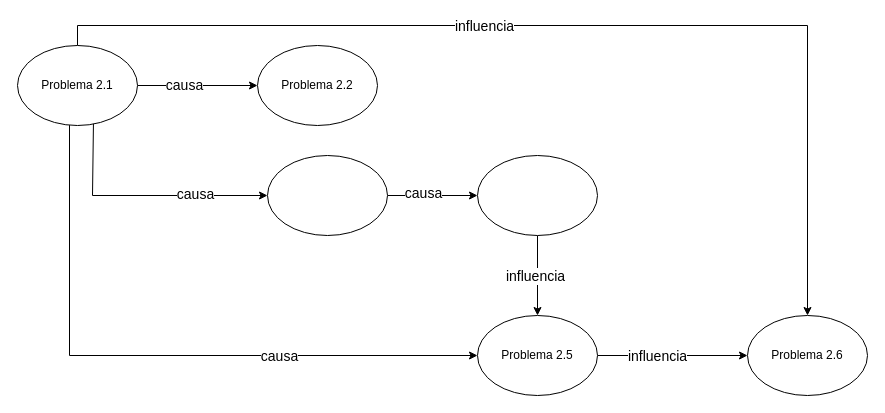
Some shapes in this 885 by 413 pixel diagram are drawn without their labels. Each missing label, with the centre of its shape:
Problema 2.3: point 327,195
Problema 2.4: point 537,195
